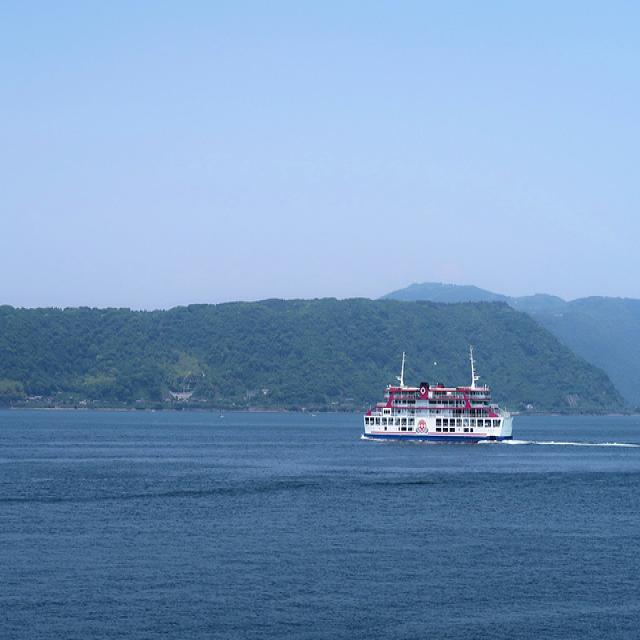houseboat: (356, 362, 519, 449)
